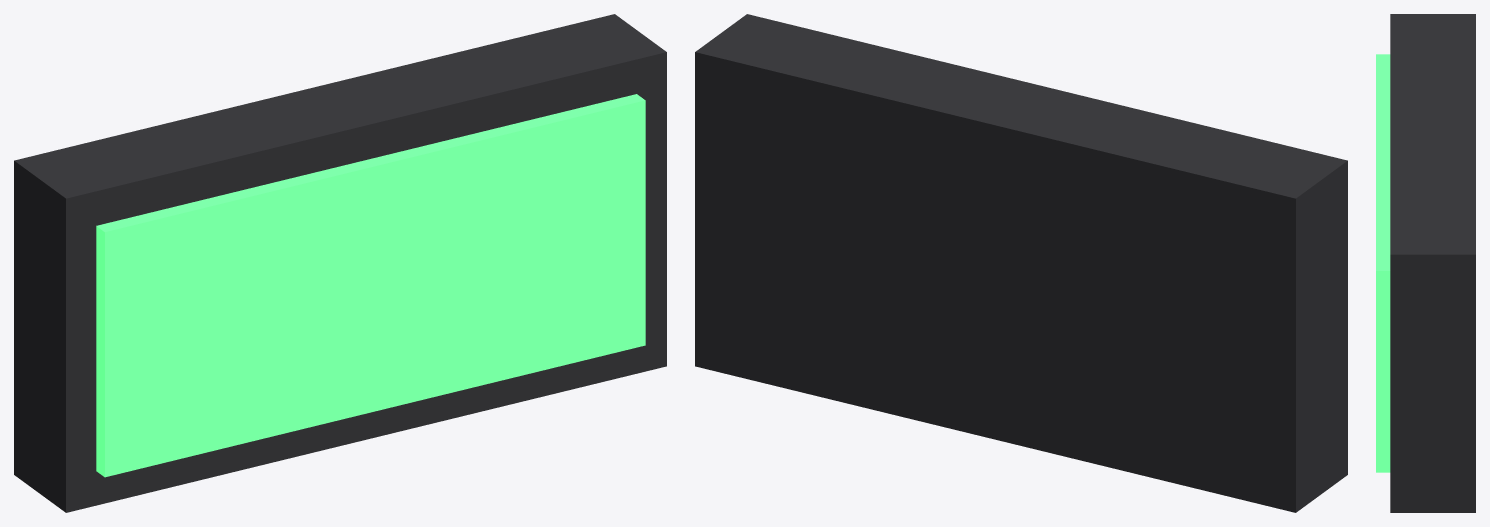
Rendered from exit_sign.glb.
3 views of the same model, side by side, from view 1: azimuth 30°, elevation 25°; view 2: azimuth 150°, elevation 25°; view 3: azimuth 270°, elevation 25° (orthographic). The views are drawn at different scales.
Parts seen in each view (by area): view 1: Exit Sign; view 2: Exit Sign; view 3: Exit Sign.
Boxes of the visible parts, x1,y1,x2,y2 form: Exit Sign: (14, 14, 666, 512); Exit Sign: (695, 14, 1347, 512); Exit Sign: (1376, 14, 1475, 512).
Size of the model in its own units: 0.2 by 0.1 by 0.035.
